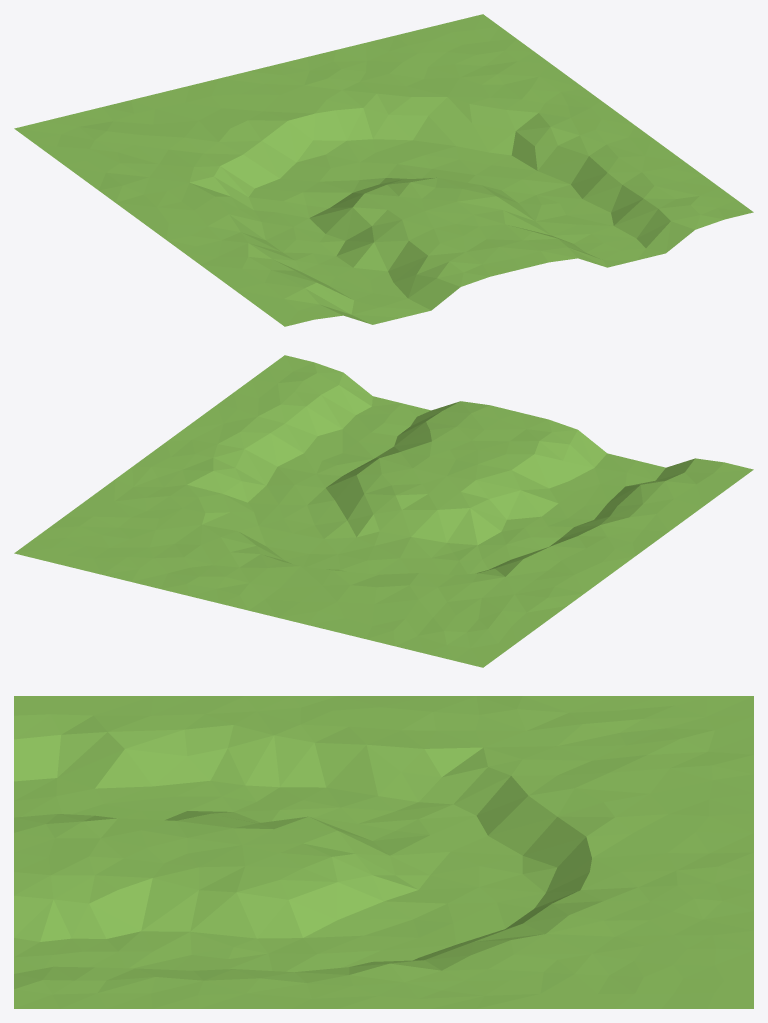
File: MT_River_M_d_01_LOD.fbx
3 views of the same model, one above another, from view 1: azimuth 30°, elevation 25°; view 2: azimuth 150°, elevation 25°; view 3: azimuth 270°, elevation 25° (orthographic). The views are drawn at different scales.
Visible parts, largest first — view 1: MT_River_M_d_01_LOD0; view 2: MT_River_M_d_01_LOD0; view 3: MT_River_M_d_01_LOD0.
Boxes of the visible parts, box(x1,y1,x2,y2) form: MT_River_M_d_01_LOD0: box(14, 14, 753, 326); MT_River_M_d_01_LOD0: box(14, 355, 753, 667); MT_River_M_d_01_LOD0: box(14, 696, 753, 1008).
Size of what is drawn, in the model's own units: 5000 by 220 by 5000.
